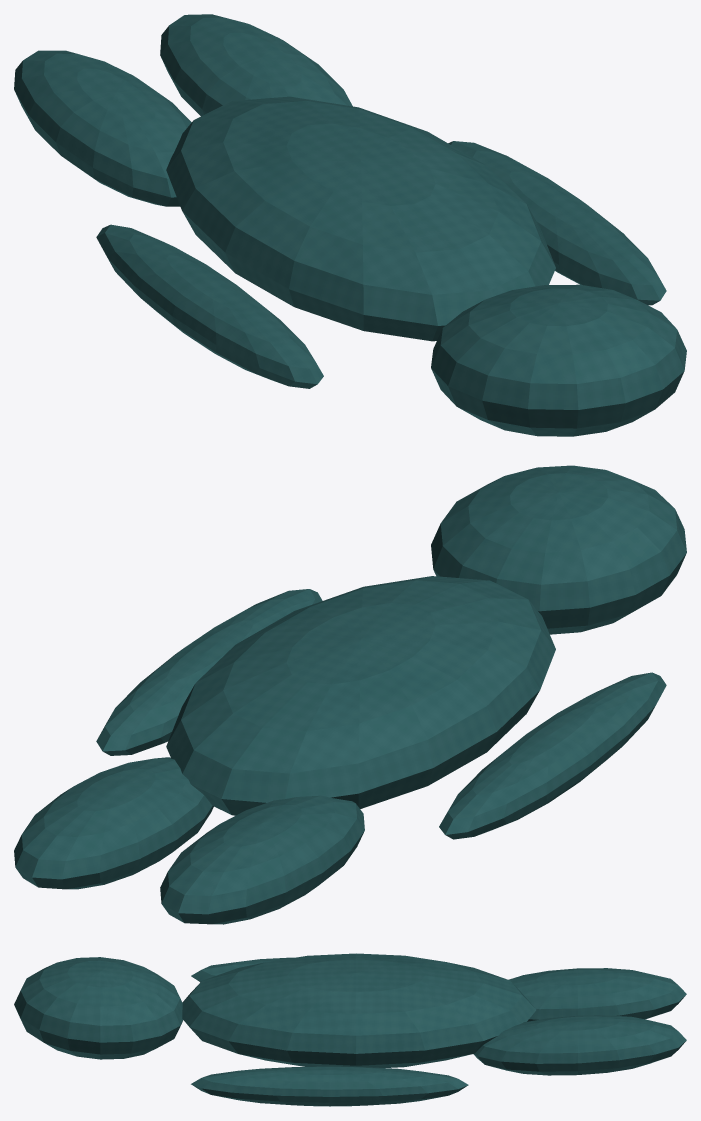
Rendered from StarAtlasBodyFit_AST-RST-LN-001.glb.
3 renders of one model, top to bottom at view 1: azimuth 30°, elevation 25°; view 2: azimuth 150°, elevation 25°; view 3: azimuth 270°, elevation 25°, orthographic. The views are drawn at different scales.
Parts seen in each view (by area): view 1: Torso, Head, LeftFoldedLeg, LeftArm, RightFoldedLeg, RightArm; view 2: Torso, Head, LeftFoldedLeg, RightFoldedLeg, LeftArm, RightArm; view 3: Torso, Head, RightFoldedLeg, RightArm, LeftFoldedLeg, LeftArm.
Part boxes in pixels (x1=…): Torso: x1=166, y1=96, x2=555, y2=341; Head: x1=431, y1=284, x2=686, y2=436; LeftFoldedLeg: x1=14, y1=50, x2=191, y2=206; LeftArm: x1=96, y1=224, x2=323, y2=388; RightFoldedLeg: x1=160, y1=14, x2=352, y2=116; RightArm: x1=448, y1=141, x2=666, y2=305; Torso: x1=166, y1=576, x2=555, y2=815; Head: x1=431, y1=465, x2=686, y2=634; LeftFoldedLeg: x1=160, y1=795, x2=364, y2=924; RightFoldedLeg: x1=14, y1=757, x2=213, y2=889; LeftArm: x1=439, y1=672, x2=666, y2=839; RightArm: x1=96, y1=589, x2=322, y2=755; Torso: x1=182, y1=953, x2=536, y2=1067; Head: x1=14, y1=957, x2=183, y2=1059; RightFoldedLeg: x1=473, y1=1015, x2=686, y2=1075; RightArm: x1=191, y1=1066, x2=468, y2=1106; LeftFoldedLeg: x1=508, y1=968, x2=686, y2=1021; LeftArm: x1=191, y1=957, x2=293, y2=982.
Size of the model in its own units: 0.83 by 0.2346 by 1.79.
1 material, 1 textured.
